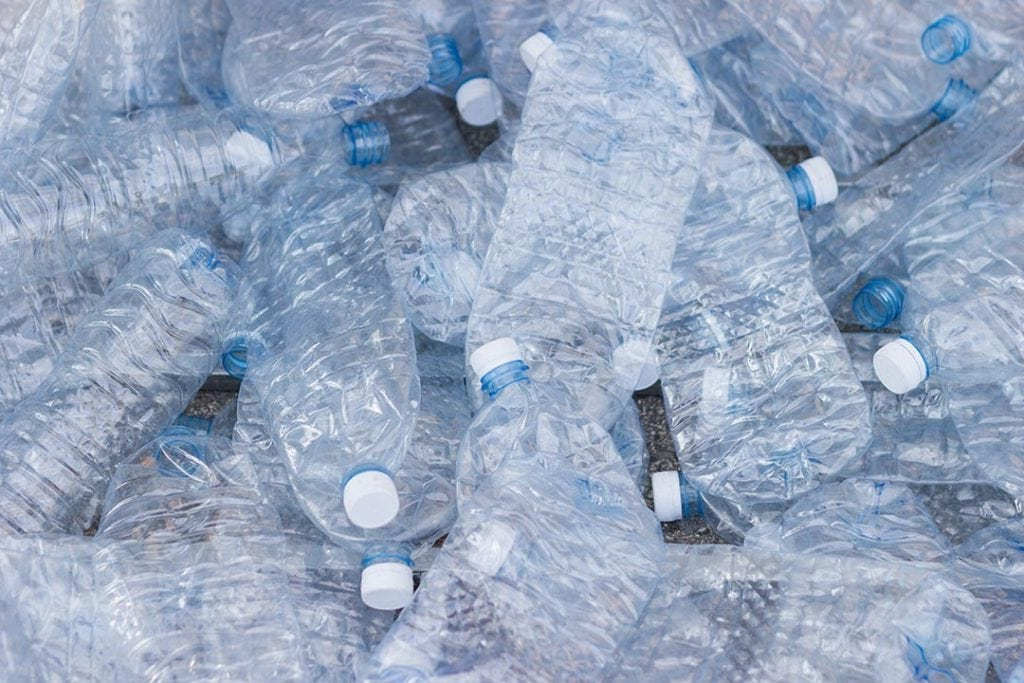plastic water bottle: (463, 38, 718, 476), (647, 125, 899, 542), (453, 336, 690, 680), (1, 85, 400, 286), (1, 224, 251, 543), (220, 176, 435, 531), (90, 461, 322, 683), (708, 1, 976, 130)
